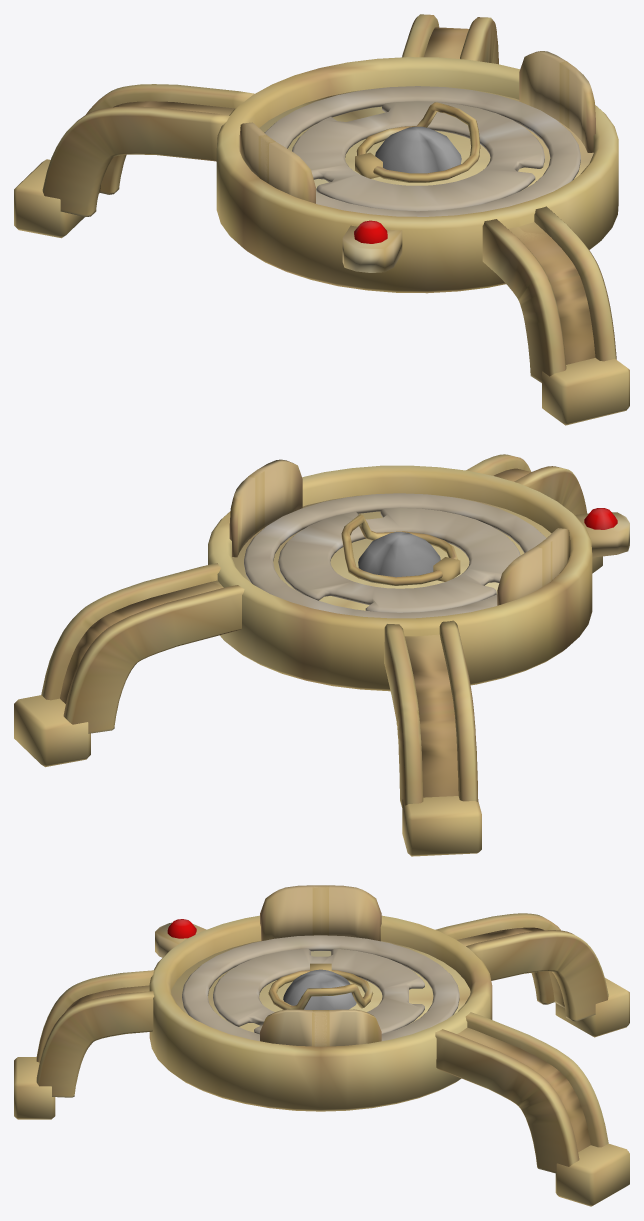
Rendered from inserter.0.glb.
3 renders of one model, top to bottom at view 1: azimuth 30°, elevation 25°; view 2: azimuth 150°, elevation 25°; view 3: azimuth 270°, elevation 25°, orthographic. The views are drawn at different scales.
Parts seen in each view (by area): view 1: modelo; view 2: modelo; view 3: modelo.
Part boxes in pixels (x1=…): modelo: x1=14, y1=14, x2=629, y2=425; modelo: x1=14, y1=454, x2=629, y2=856; modelo: x1=14, y1=885, x2=629, y2=1206.
Bounding box in the file's own units: 1.67 × 0.608 × 2.15.
